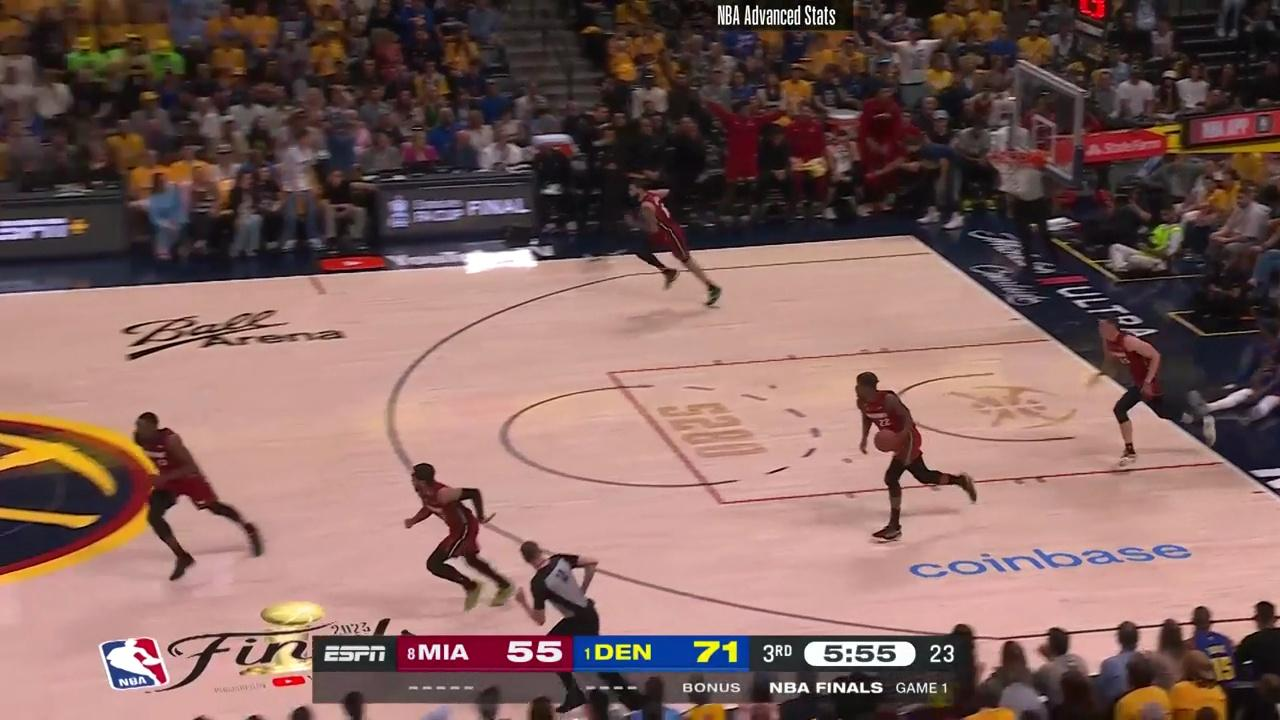Backboard: (1017, 66, 1084, 180)
Ball: (872, 429, 897, 453)
Basket: (985, 149, 1045, 200)
Person: (122, 409, 266, 576), (850, 369, 980, 543), (400, 460, 524, 618), (1092, 319, 1206, 467), (621, 176, 723, 309)
Referee: (515, 533, 600, 634)
Shot Clock: (1067, 1, 1117, 44)
